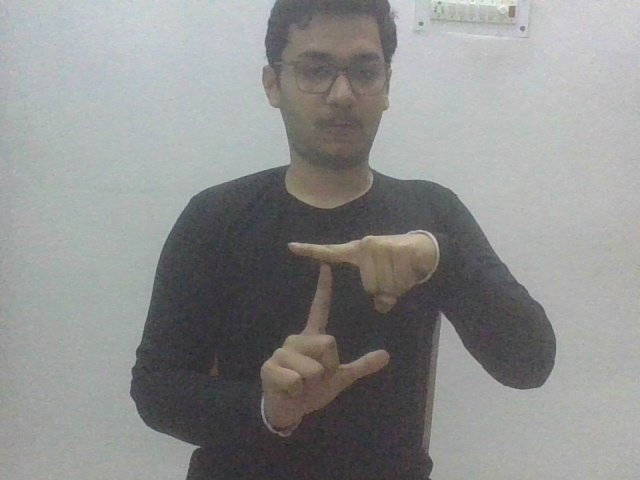J: (254, 227, 443, 434)
